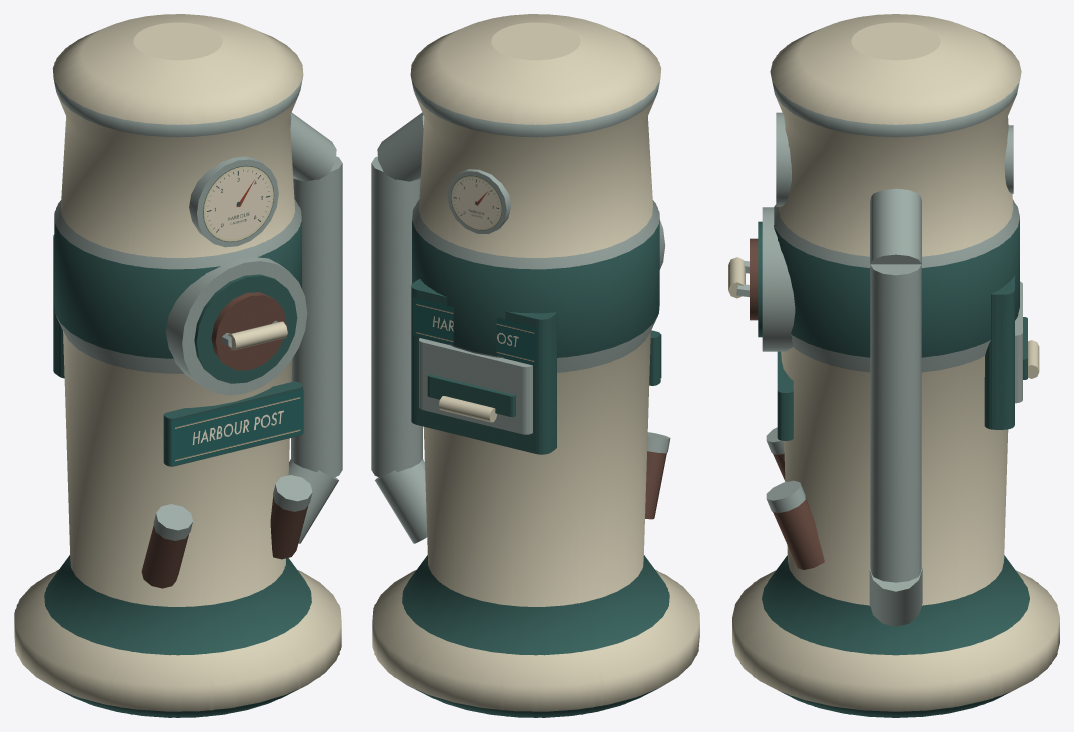
Rendered from PneumaticPost.fbx.
3 views of the same model, side by side, from view 1: azimuth 30°, elevation 25°; view 2: azimuth 150°, elevation 25°; view 3: azimuth 270°, elevation 25° (orthographic).
Visible parts, largest first — view 1: PneumaticPost Close, PneumaticPost Street, PneumaticPost Horizon; view 2: PneumaticPost Close, PneumaticPost Street, PneumaticPost Horizon; view 3: PneumaticPost Close, PneumaticPost Street, PneumaticPost Horizon.
Boxes of the visible parts, left/top/right/bottom form: PneumaticPost Close: left=14, top=14, right=342, bottom=717; PneumaticPost Street: left=16, top=14, right=339, bottom=717; PneumaticPost Horizon: left=15, top=15, right=340, bottom=716; PneumaticPost Close: left=371, top=14, right=699, bottom=717; PneumaticPost Street: left=374, top=14, right=697, bottom=717; PneumaticPost Horizon: left=373, top=15, right=698, bottom=716; PneumaticPost Close: left=728, top=14, right=1059, bottom=717; PneumaticPost Street: left=734, top=16, right=1057, bottom=714; PneumaticPost Horizon: left=740, top=21, right=1051, bottom=706.
Size of the model in its own units: 93.9 by 183 by 89.1.
